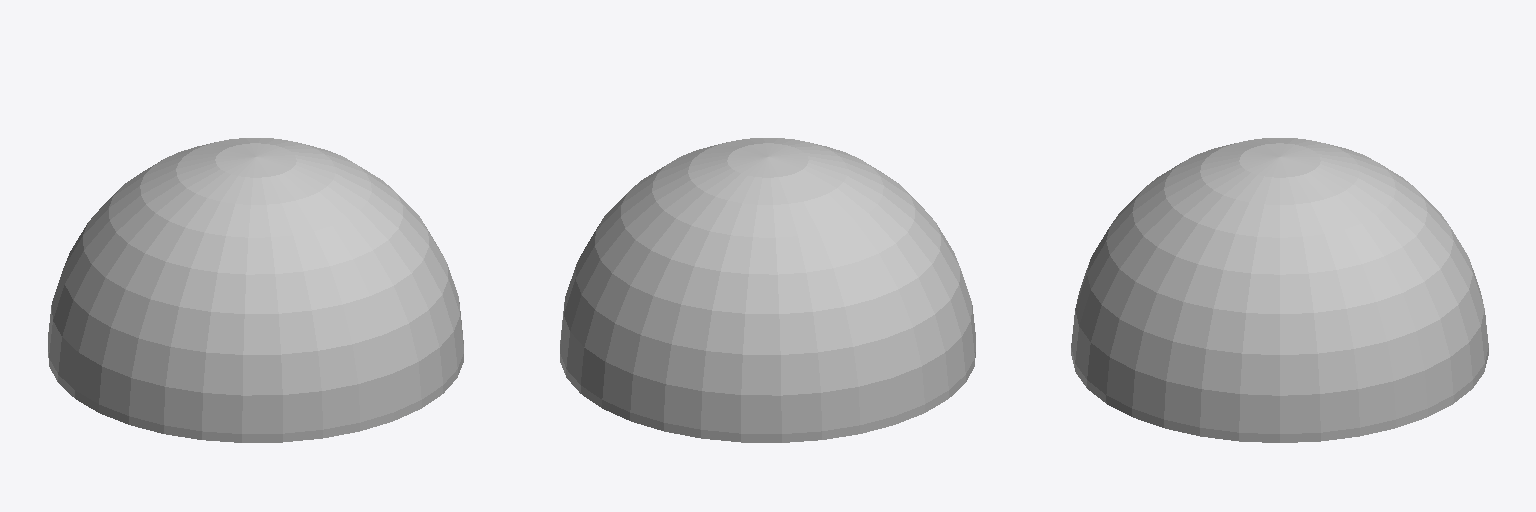
The model's file is ManorSky.obj.
3 renders of one model, left to right at view 1: azimuth 30°, elevation 25°; view 2: azimuth 150°, elevation 25°; view 3: azimuth 270°, elevation 25°, orthographic.
Parts seen in each view (by area): view 1: default; view 2: default; view 3: default.
Part boxes in pixels (left/top/right/bottom): default: left=48, top=138, right=463, bottom=442; default: left=560, top=138, right=975, bottom=442; default: left=1071, top=138, right=1488, bottom=442.
Size of the model in its own units: 6.76 by 3.54 by 6.76.